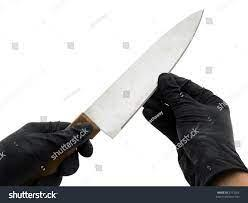Knife: (0, 73, 248, 186), (84, 9, 204, 137), (0, 121, 92, 185)
